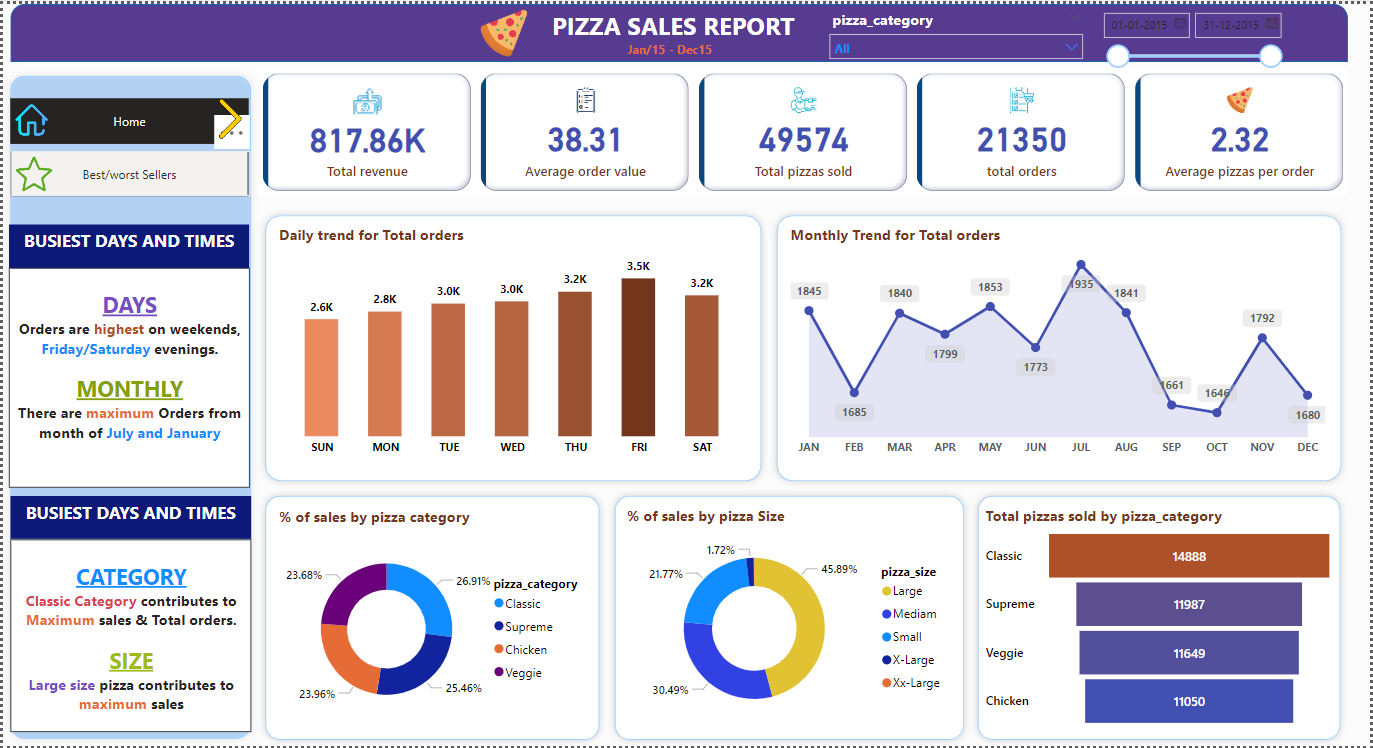

The page's visual inventory and layout, read from the dashboard file:
{"tool":"powerbi","page":{"name":"Home","canvas":[1510,820],"ordinal":0},"visuals":[{"type":"cardVisual","fields":{"Data":["pizza_sales.Total revenue","pizza_sales.Average order value","pizza_sales.Total pizzas sold","pizza_sales.total orders","pizza_sales.Average pizzas per order"]},"box":[282.2,71.9,1204.2,140.2],"z":0},{"type":"shape","box":[8,0,1478,64],"z":1000},{"type":"textbox","box":[597.5,0,287.7,53.5],"z":2000},{"type":"textbox","box":[684.2,35,114.3,36.9],"z":3000},{"type":"shape","box":[282.2,225,564.3,309.8],"z":4000},{"type":"shape","box":[846.5,225,639.9,309.8],"z":5000},{"type":"columnChart","title":"Daily trend for Total orders","fields":{"Category":["pizza_sales.Order day"],"Y":["pizza_sales.total orders"]},"box":[300.6,243.4,525.6,263.7],"z":6000},{"type":"areaChart","title":"Monthly  Trend for Total orders","fields":{"Category":["pizza_sales.Order Month"],"Y":["pizza_sales.total orders"]},"box":[864.9,243.4,601.2,263.7],"z":7000},{"type":"shape","box":[282.2,534.8,385.4,285.8],"z":8000},{"type":"shape","box":[667.6,534.8,402,285.8],"z":9000},{"type":"shape","box":[1069.6,534.8,416.8,285.8],"z":10000},{"type":"donutChart","title":"% of sales by pizza category","fields":{"Category":["pizza_sales.pizza_category"],"Y":["pizza_sales.Total revenue"]},"box":[300.6,555.1,355.9,249],"z":11000},{"type":"donutChart","title":"% of sales by pizza Size","fields":{"Category":["pizza_sales.pizza_size"],"Y":["pizza_sales.Total revenue"]},"box":[684.2,553.2,370.7,250.8],"z":12000},{"type":"funnel","fields":{"Y":["pizza_sales.Total pizzas sold"],"Category":["pizza_sales.pizza_category"]},"box":[1080.7,553.2,394.6,250.8],"z":13000},{"type":"shape","box":[0,71.9,282.2,748.7],"z":14000},{"type":"textbox","box":[7.4,243.4,265.6,47.9],"z":15000},{"type":"textbox","box":[7.1,291.4,265.7,242.9],"z":16000},{"type":"textbox","box":[8.6,544.3,265.7,47.1],"z":17000},{"type":"textbox","box":[8.6,591.4,265.7,212.9],"z":18000},{"type":"slicer","fields":{"Values":["pizza_sales.pizza_category"]},"box":[904,0,300,64],"z":19000},{"type":"slicer","fields":{"Values":["pizza_sales.order_date"]},"box":[1204.2,0,218.3,77.5],"z":20000},{"type":"pageNavigator","box":[6.6,144.2,265.2,49.7],"z":21000},{"type":"pageNavigator","box":[6.6,194,265.2,49.7],"z":22000},{"type":"image","box":[220.5,144.2,53,54.7],"z":23000},{"type":"image","box":[6.6,142.6,46.4,51.4],"z":24000},{"type":"image","box":[6.6,194,53,49.7],"z":25000},{"type":"image","box":[520,0,65.7,64.3],"z":26000}]}

Visuals, with their boxes in screenshot pixels (x1, y1, x2, y2), scaled from the page's 1510x820 canvas onto the 1373x748 screenshot:
cardVisual - pizza_sales.Total revenue x pizza_sales.Average order value: <box>257,66,1352,193</box>
shape: <box>7,0,1351,58</box>
textbox: <box>543,0,805,49</box>
textbox: <box>622,32,726,66</box>
shape: <box>257,205,770,488</box>
shape: <box>770,205,1352,488</box>
"Daily trend for Total orders" columnChart: <box>273,222,751,463</box>
"Monthly  Trend for Total orders" areaChart: <box>786,222,1333,463</box>
shape: <box>257,488,607,747</box>
shape: <box>607,488,973,747</box>
shape: <box>973,488,1352,747</box>
"% of sales by pizza category" donutChart: <box>273,506,597,733</box>
"% of sales by pizza Size" donutChart: <box>622,505,959,733</box>
funnel - pizza_sales.Total pizzas sold x pizza_sales.pizza_category: <box>983,505,1341,733</box>
shape: <box>0,66,257,747</box>
textbox: <box>7,222,248,266</box>
textbox: <box>6,266,248,487</box>
textbox: <box>8,497,249,539</box>
textbox: <box>8,539,249,734</box>
slicer - pizza_sales.pizza_category: <box>822,0,1095,58</box>
slicer - pizza_sales.order_date: <box>1095,0,1293,71</box>
pageNavigator: <box>6,132,247,177</box>
pageNavigator: <box>6,177,247,222</box>
image: <box>200,132,249,181</box>
image: <box>6,130,48,177</box>
image: <box>6,177,54,222</box>
image: <box>473,0,533,59</box>
